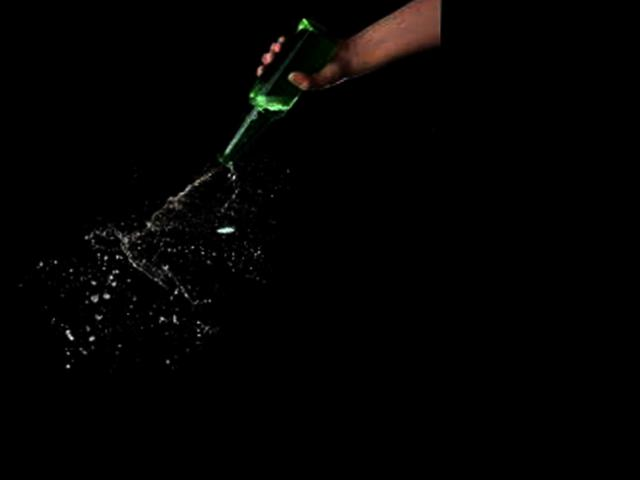beer: (217, 13, 343, 167)
